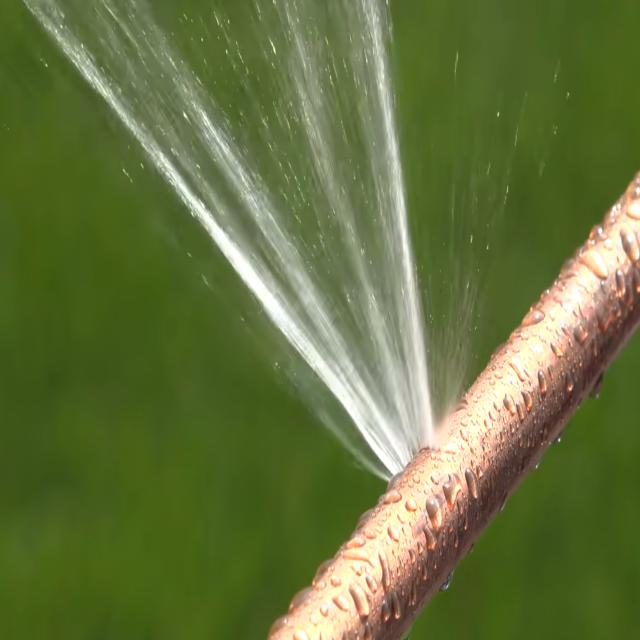leak: (8, 0, 434, 483)
